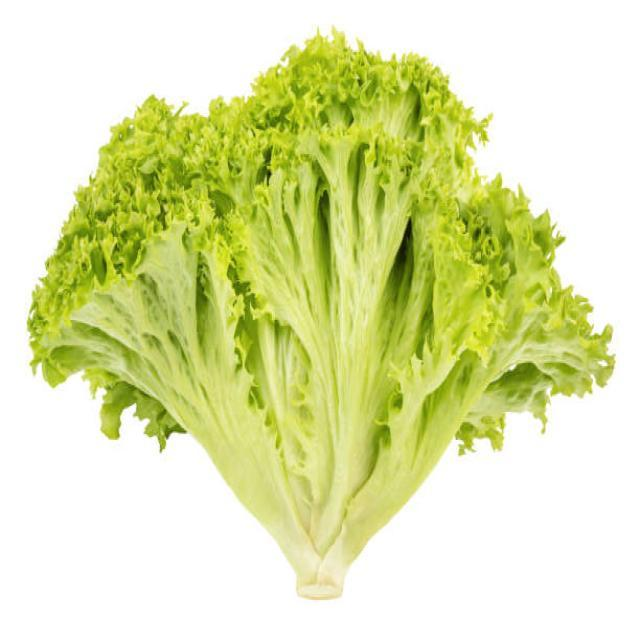Lettuce-Ready-to-Harvest: (29, 35, 612, 598)
